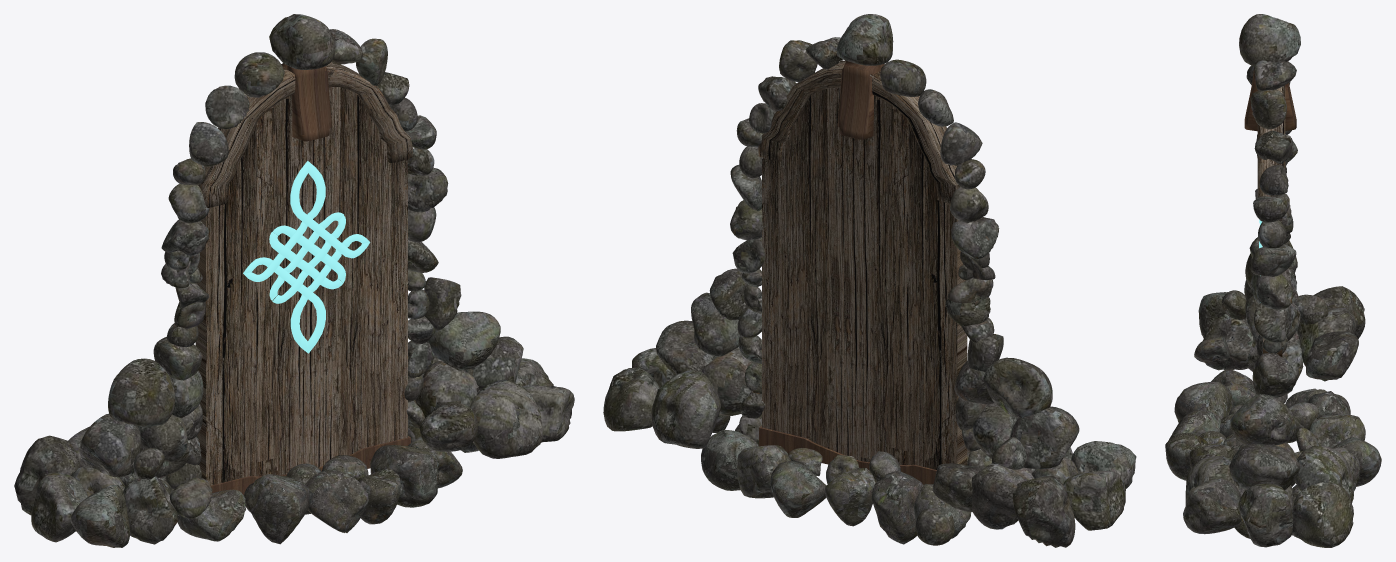
File: doorDracoTexturesCompressed.glb
3 renders of one model, left to right at view 1: azimuth 30°, elevation 25°; view 2: azimuth 150°, elevation 25°; view 3: azimuth 270°, elevation 25°, orthographic. The views are drawn at different scales.
Visible parts, largest first — view 1: Cube.005_8, Cube.003_6, Cube.007_9, Cube.002_2, Cube.006_3, Cube.004_7, Cube_5; view 2: Cube.003_6, Cube.005_8, Cube.007_9, Cube.004_7, Cube_5; view 3: Cube.005_8, Cube.007_9, Cube.004_7, Cube.003_6.
Part boxes in pixels (left/top/right/bottom): Cube.005_8: left=14, top=14, right=574, bottom=547; Cube.003_6: left=195, top=62, right=412, bottom=485; Cube.007_9: left=164, top=436, right=462, bottom=544; Cube.002_2: left=243, top=161, right=370, bottom=353; Cube.006_3: left=269, top=212, right=345, bottom=303; Cube.004_7: left=282, top=64, right=331, bottom=141; Cube_5: left=210, top=436, right=410, bottom=494; Cube.003_6: left=758, top=60, right=967, bottom=469; Cube.005_8: left=603, top=14, right=1136, bottom=547; Cube.007_9: left=701, top=424, right=971, bottom=544; Cube.004_7: left=837, top=61, right=884, bottom=139; Cube_5: left=759, top=426, right=936, bottom=484; Cube.005_8: left=1183, top=14, right=1365, bottom=547; Cube.007_9: left=1165, top=369, right=1381, bottom=538; Cube.004_7: left=1244, top=69, right=1296, bottom=131; Cube.003_6: left=1257, top=85, right=1285, bottom=356.
Bounding box in the file's own units: 12.72 × 12.1 × 5.05.
Materials: 4 (3 with a texture image).
